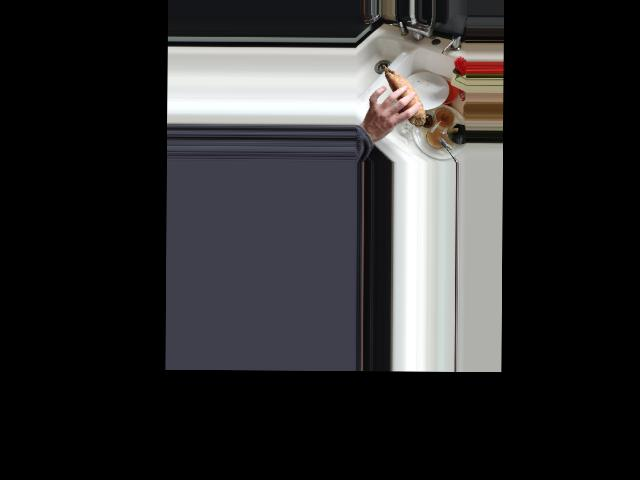sweet_potato: (381, 64, 426, 126)
